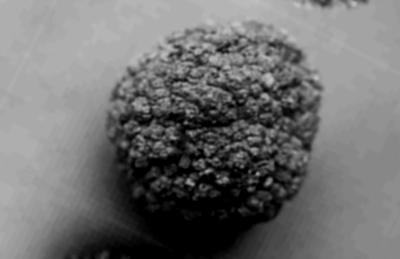halobolite: (62, 0, 371, 259)
